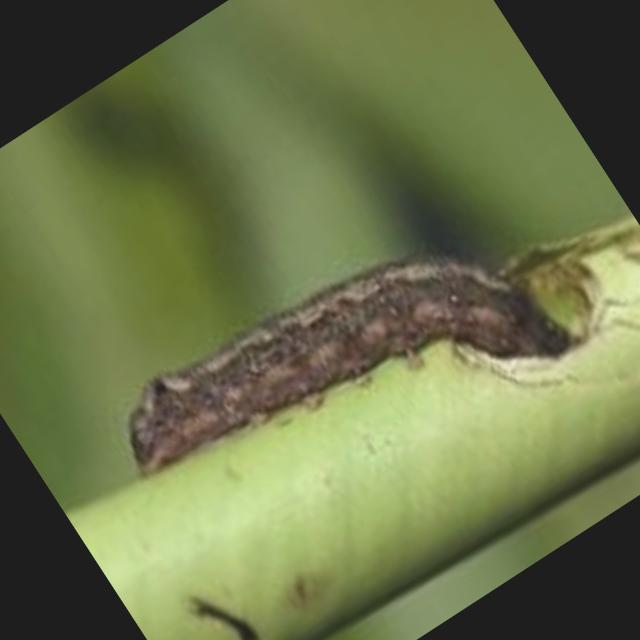Tobacco cutworm: (2, 68, 640, 640)
